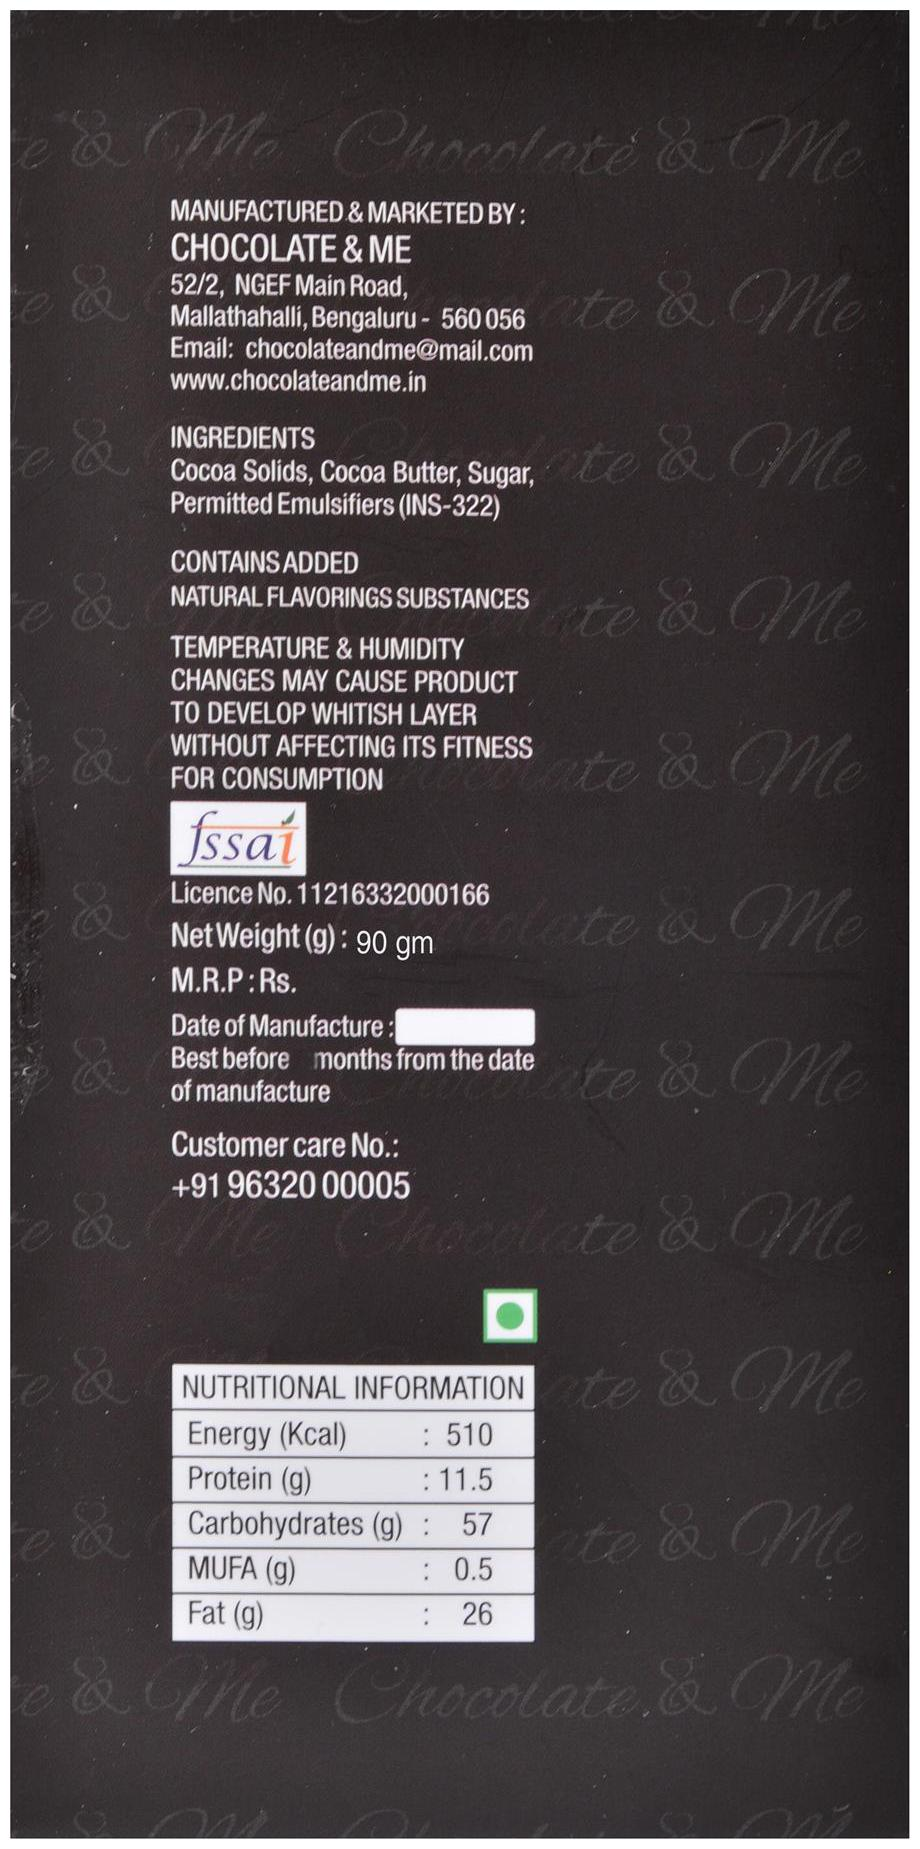fssai: (177, 809, 297, 869)
